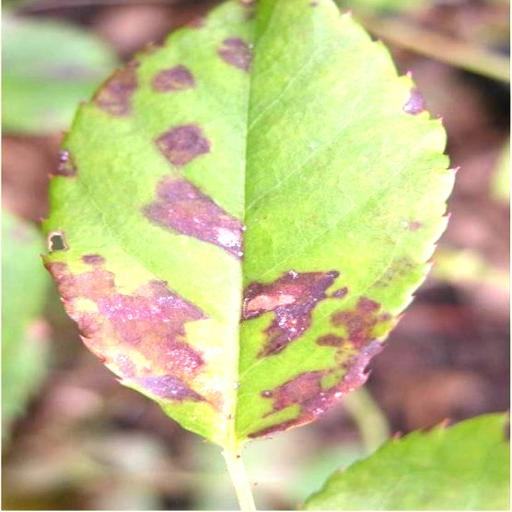downy_mildew: (46, 0, 453, 446), (306, 415, 509, 510), (2, 14, 116, 133), (2, 212, 47, 437)
